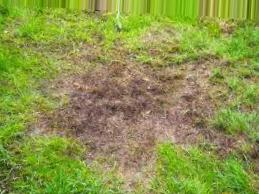patch: (74, 91, 117, 128), (157, 81, 182, 120), (124, 89, 156, 115), (103, 73, 137, 86), (129, 121, 164, 133), (168, 69, 197, 79), (88, 132, 112, 140), (144, 67, 151, 85)
